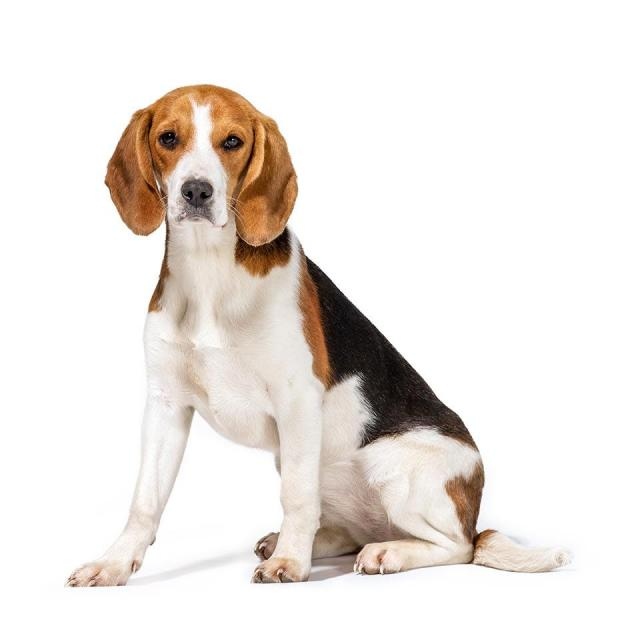Dog: (66, 76, 576, 594)
